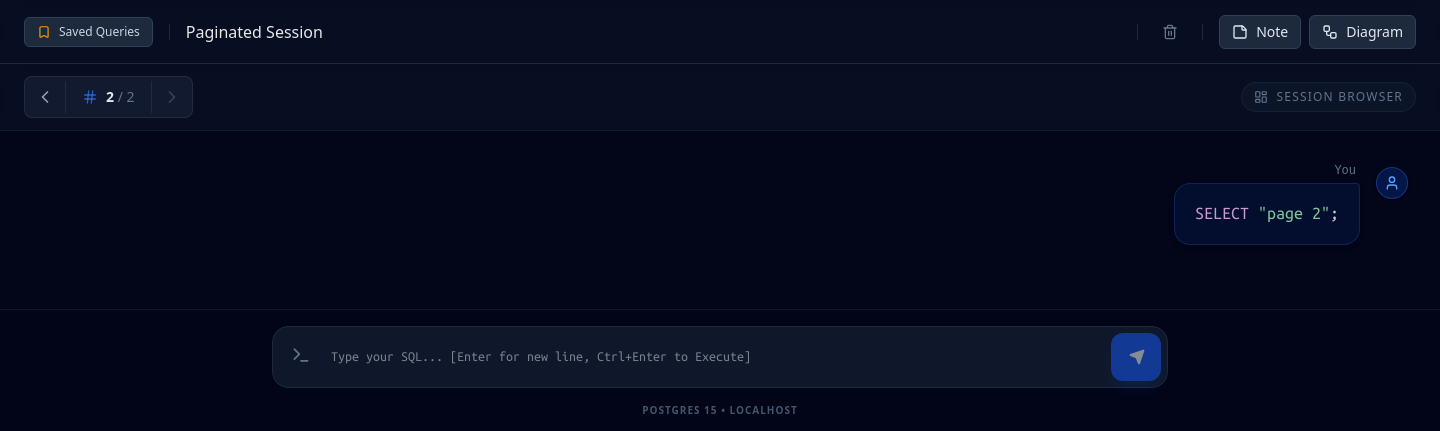
Test: ChatInterface › pagination › allows navigating between pages
What coordinates should you click on to do the following:
click the button titled "Previous Page"
I would click on:
 (45, 97)
Its box is [29, 81, 61, 113].
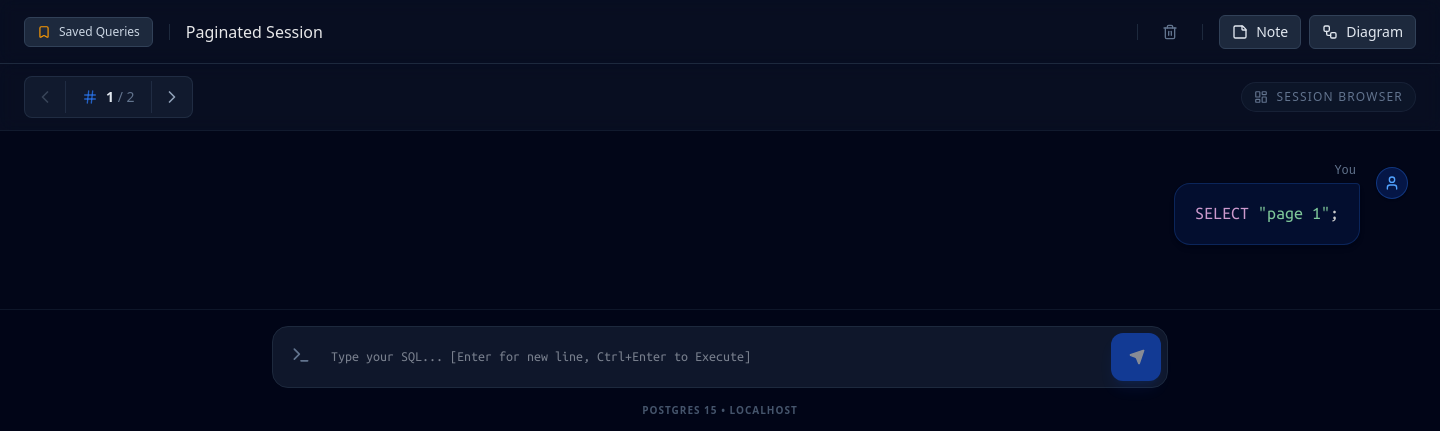
expect the text "\"page 1\"" is shown: met, box [1258, 204, 1330, 222]
expect the text "page 2" is gone: met
expect the text "1" is shown: met, box [106, 87, 114, 106]
What coordinates should you click on to do the following:
click the button titled "Next Page"
I would click on:
 (172, 97)
Its box is [156, 81, 188, 113].
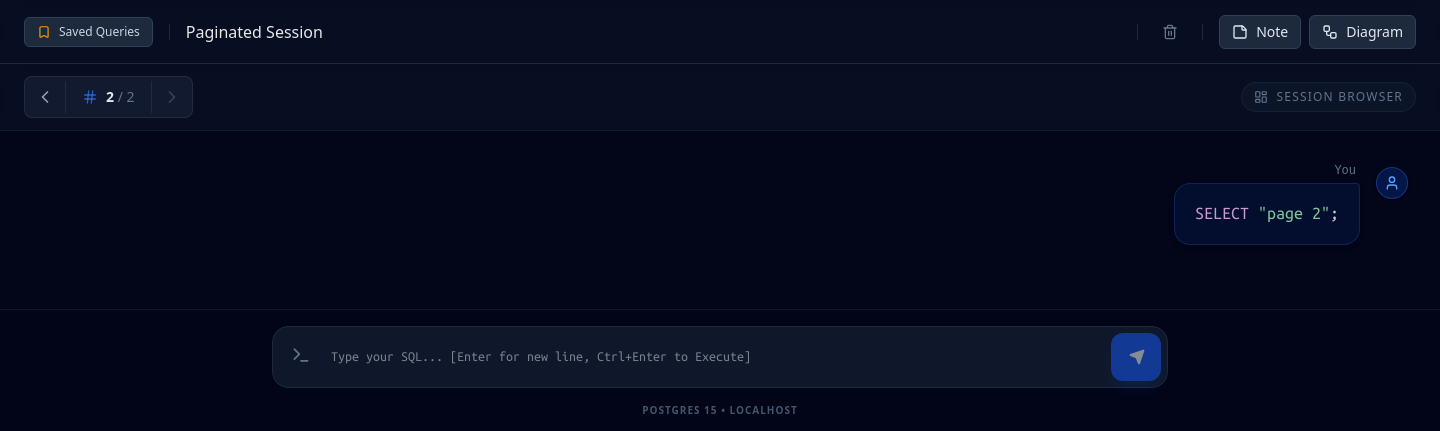
expect the text "\"page 2\"" is shown: met, box [1258, 204, 1330, 222]
expect the text "page 1" is gone: met
